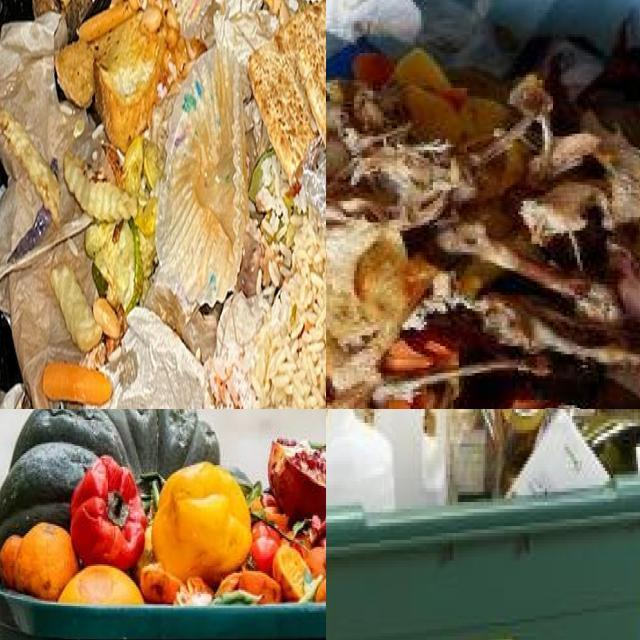Garbage: (326, 48, 640, 409), (0, 409, 326, 606), (326, 409, 640, 508)
Glass_bottle: (575, 409, 640, 475)
Plastic: (375, 409, 448, 508), (326, 409, 395, 511)
Plastic_bottle: (450, 409, 503, 502)
can: (499, 409, 548, 491)
